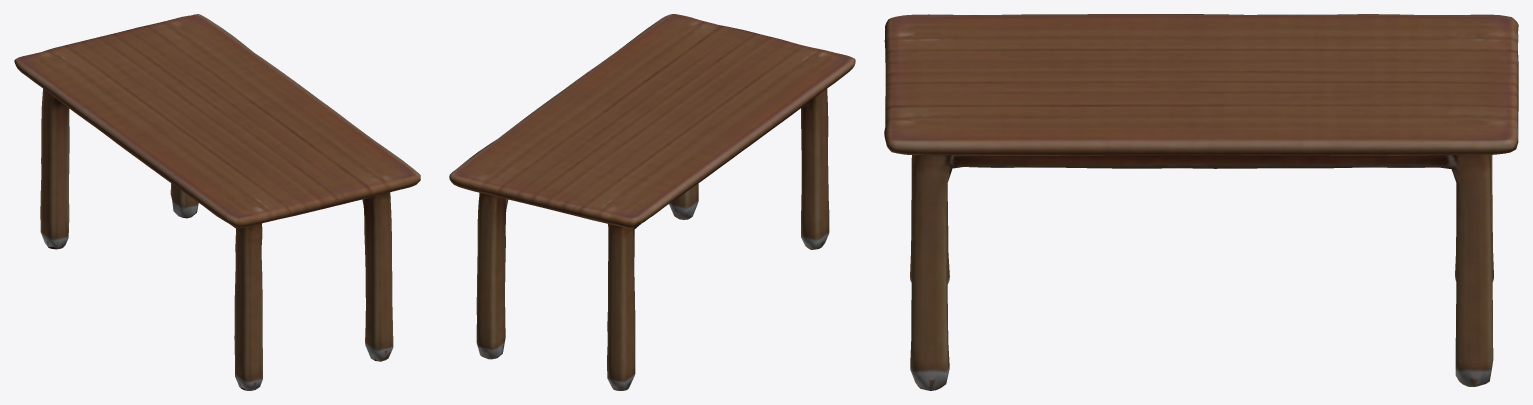
The model's file is Mesa.obj.
3 views of the same model, side by side, from view 1: azimuth 30°, elevation 25°; view 2: azimuth 150°, elevation 25°; view 3: azimuth 270°, elevation 25° (orthographic). The views are drawn at different scales.
Visible parts, largest first — view 1: Mesa; view 2: Mesa; view 3: Mesa.
Part boxes in pixels (bbox=[...]): Mesa: bbox=[14, 14, 420, 390]; Mesa: bbox=[449, 14, 855, 390]; Mesa: bbox=[884, 14, 1518, 390].
Size of the model in its own units: 5.29 by 5 by 10.74.
1 material, 1 textured.
